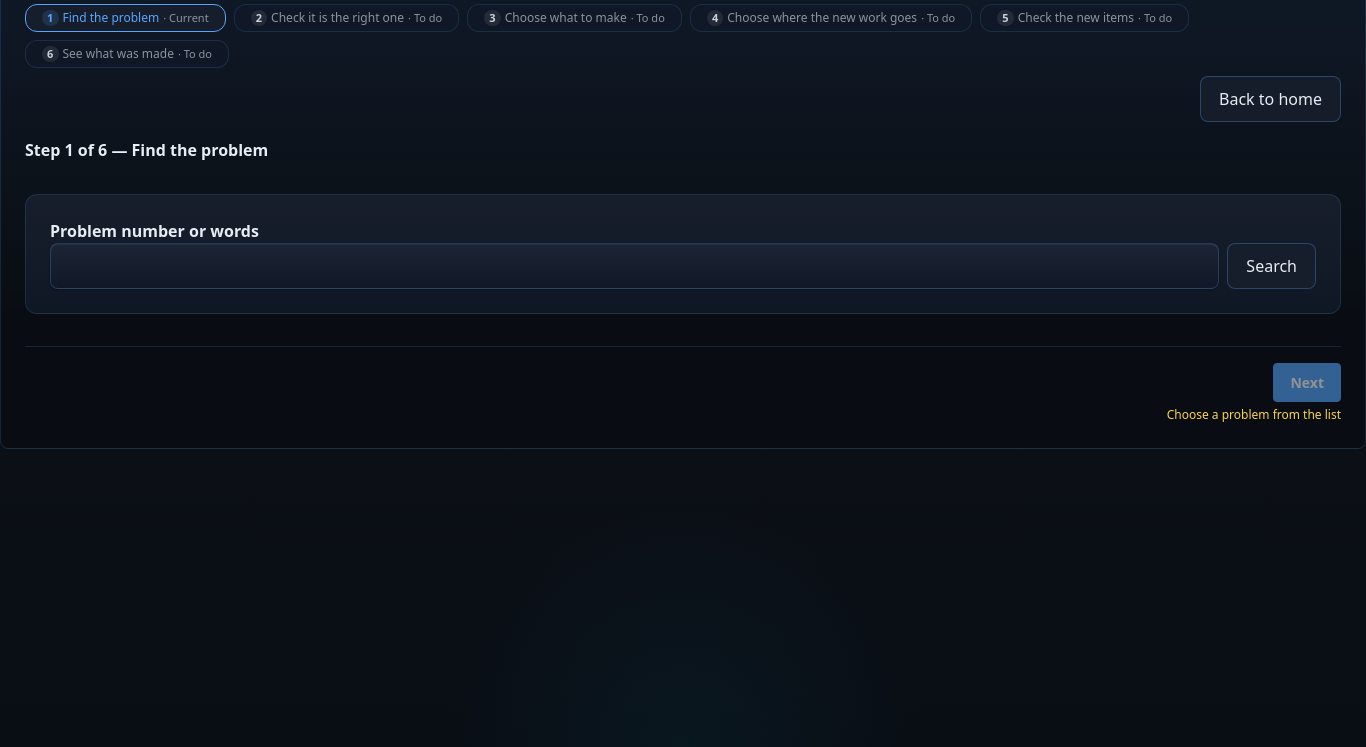
it: PrbWizard › pre-selects the remembered project
Type "PRB0012345" into the field labelled "Problem number or words" at (635, 266), box [50, 243, 1219, 289]
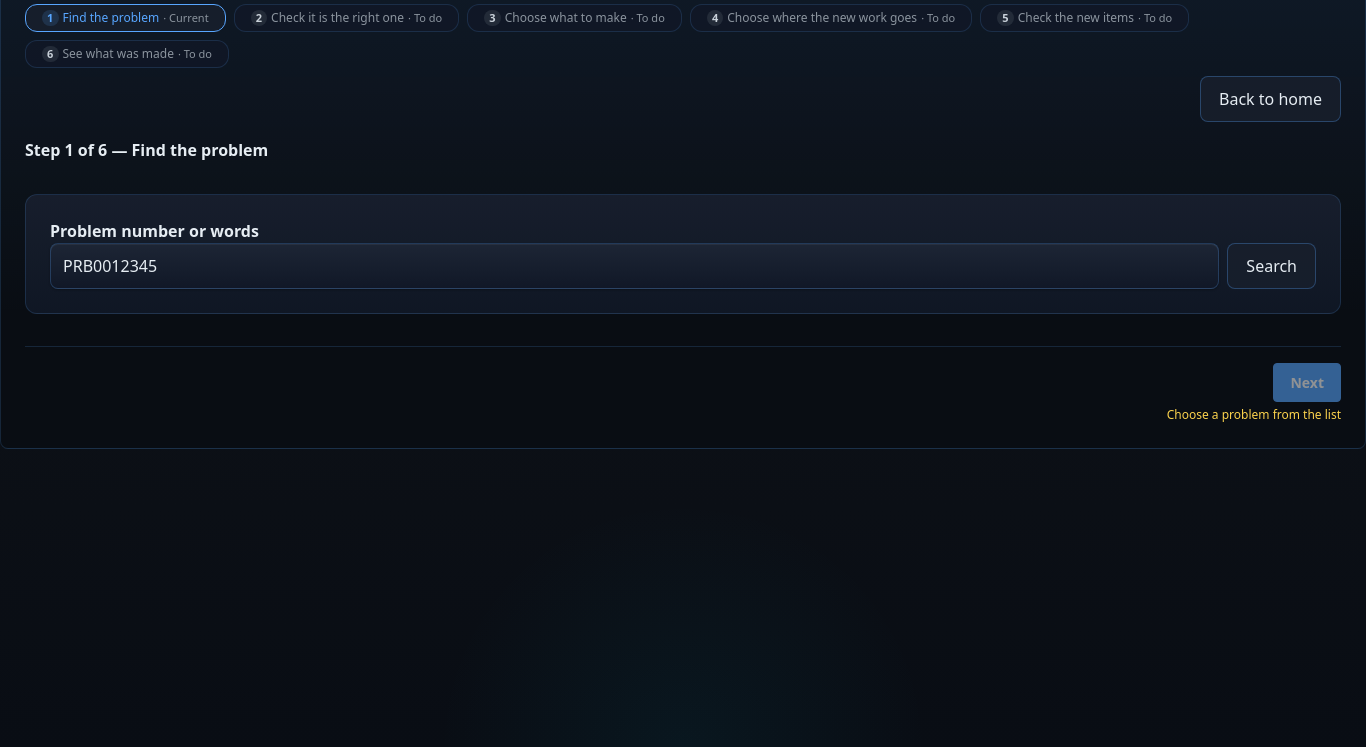
Click the button "Search" at (1272, 266), box [1227, 243, 1316, 289]
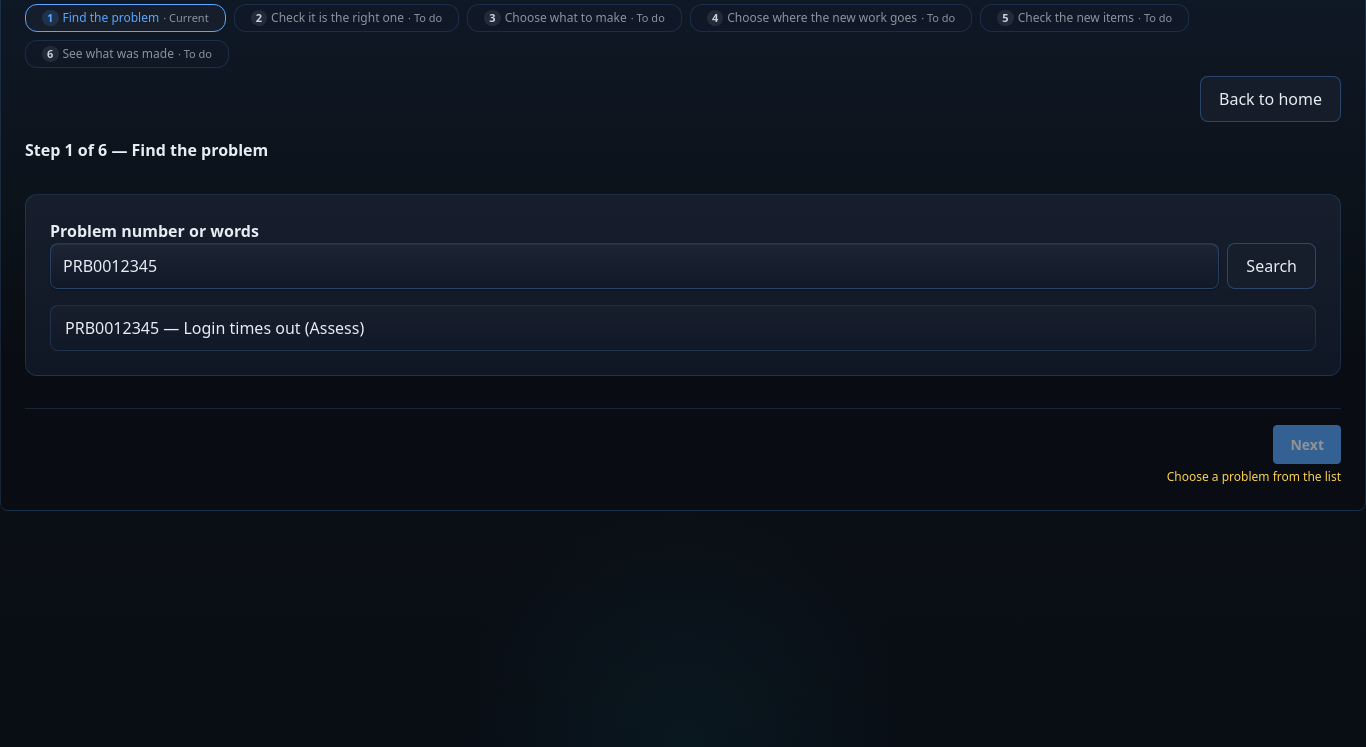
Click the button "PRB0012345 — Login times out (Assess)" at (215, 328), box [50, 305, 1316, 351]
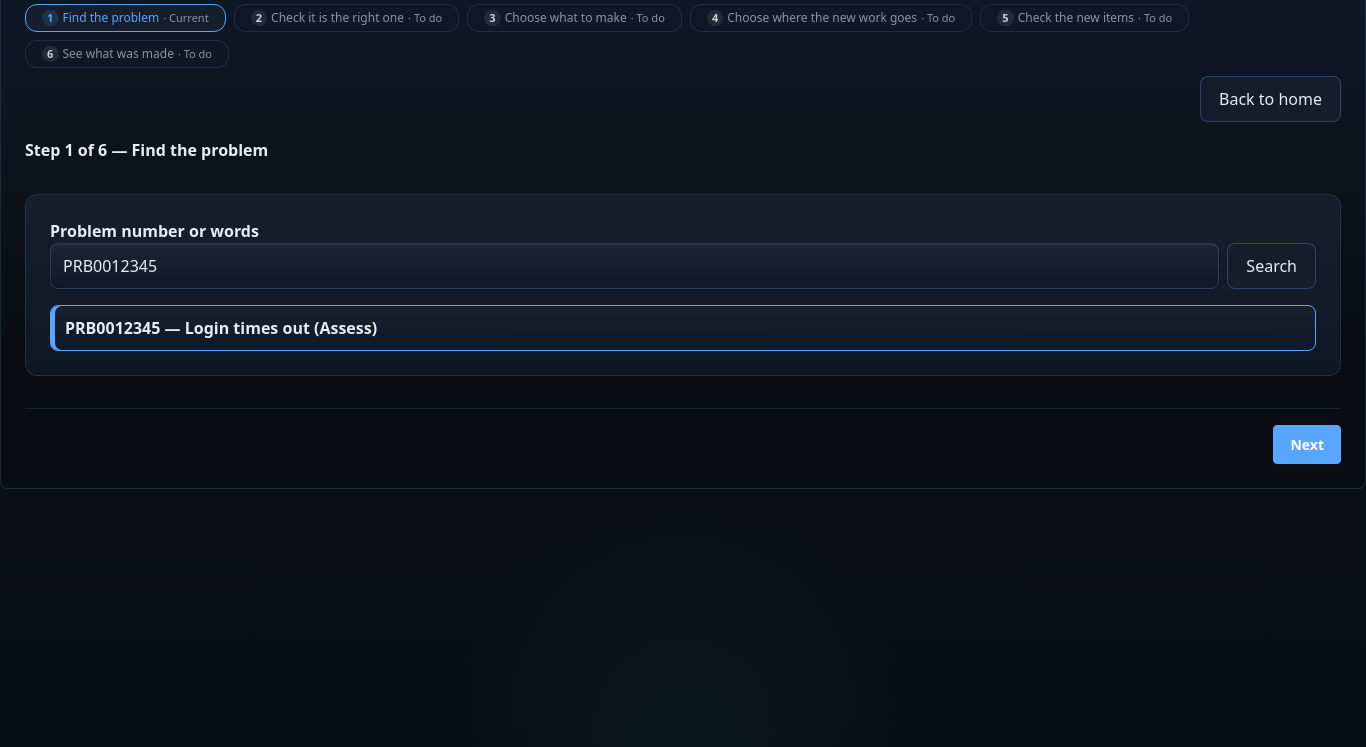
Click the button "Next" at (1307, 444), box [1274, 425, 1341, 464]
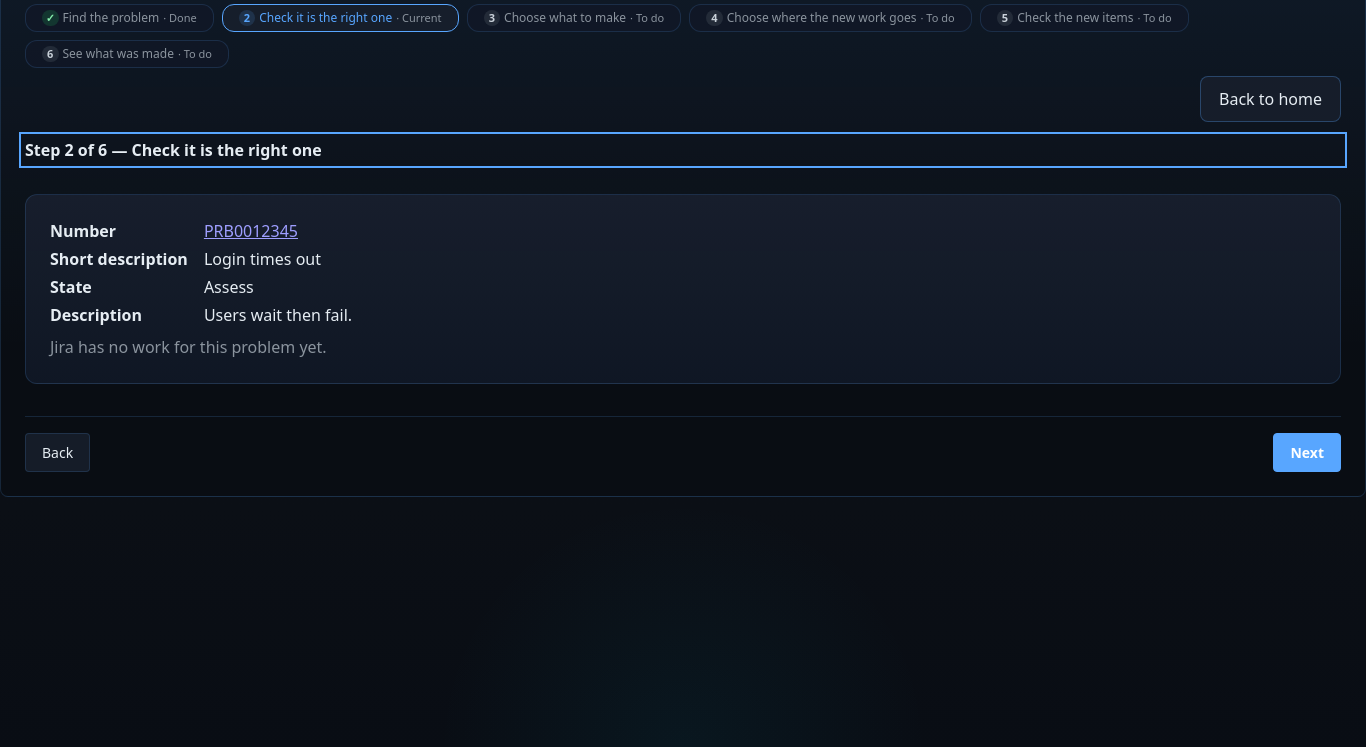
Result: the text "Jira has no work for this problem yet." is shown at [50, 336, 327, 358]
Click the button "Next" at (1307, 452), box [1274, 433, 1341, 472]
(page scrolled)
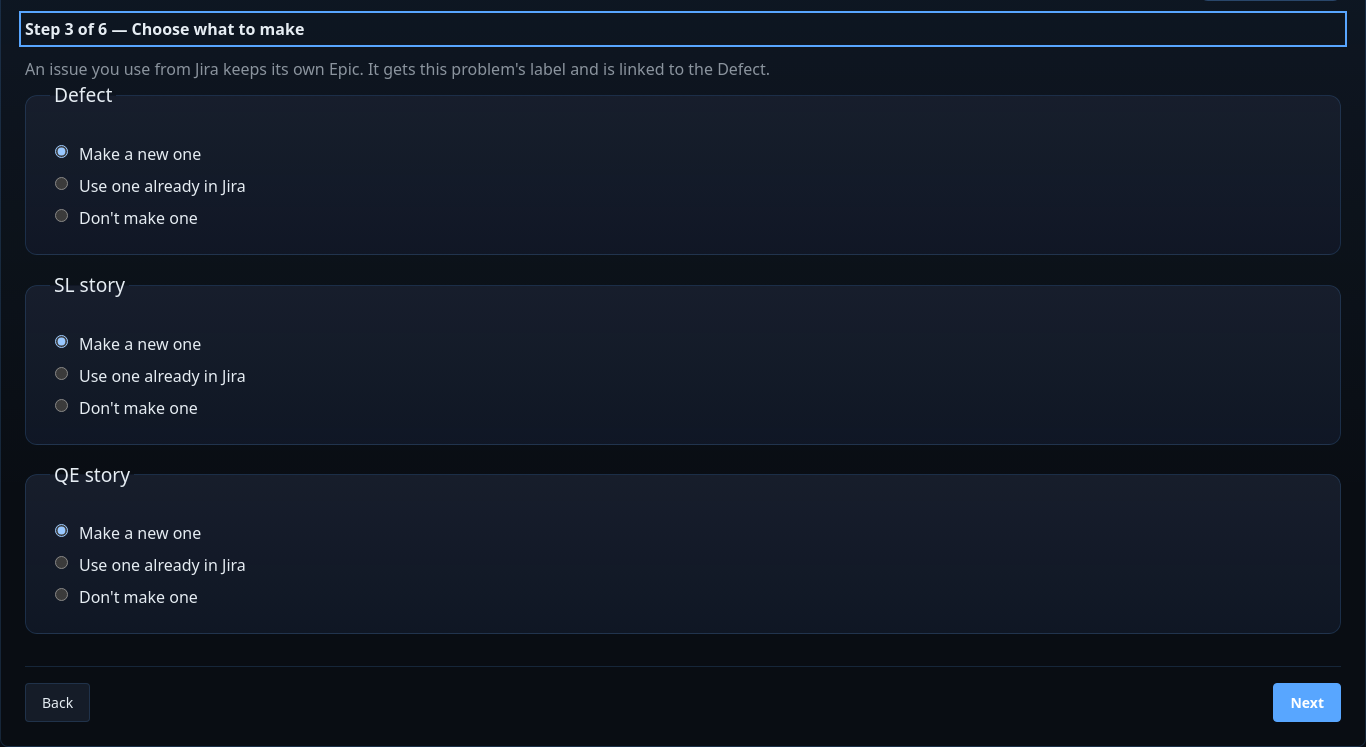
Click the button "Next" at (1307, 703), box [1274, 683, 1341, 722]
(page scrolled)
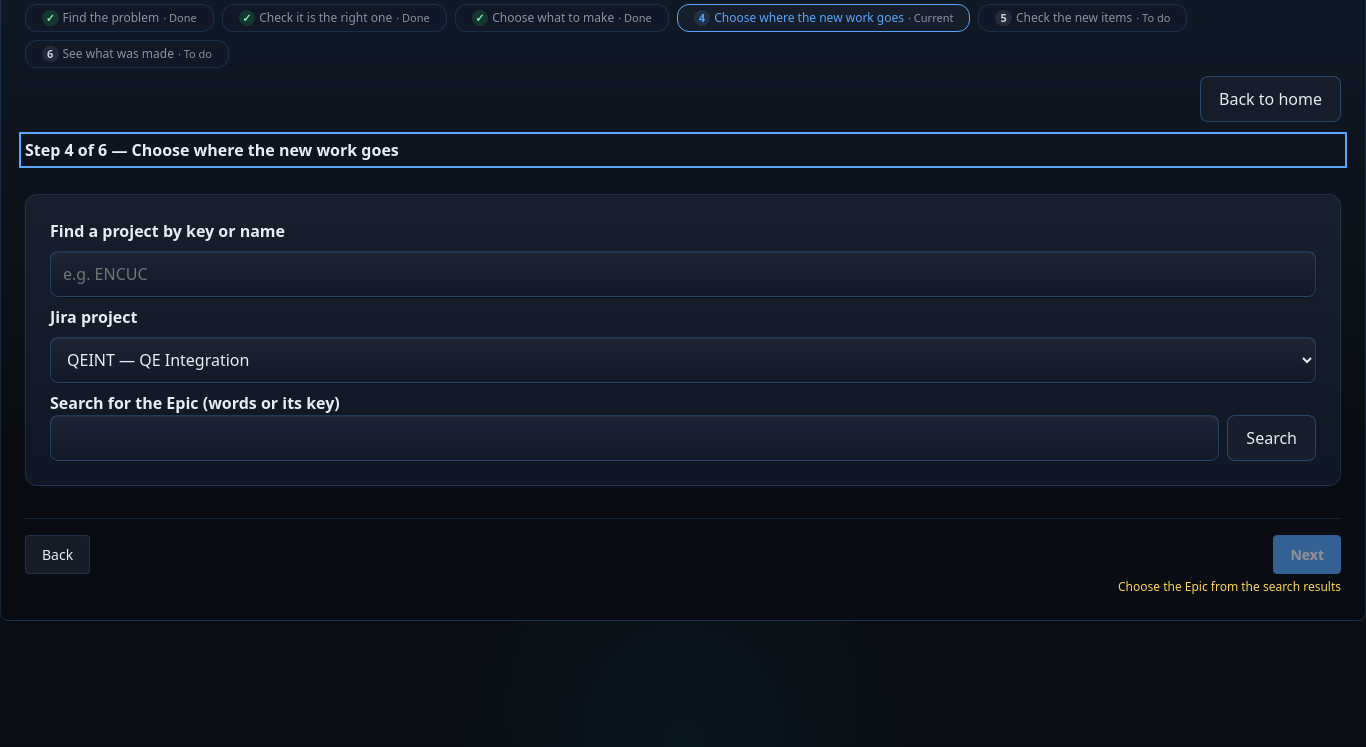
Result: the dropdown labelled "Jira project" shows "QEINT — QE Integration" at [50, 337, 1316, 383]
